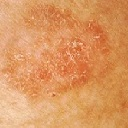Squamous Carcinoma: (11, 11, 103, 95)
